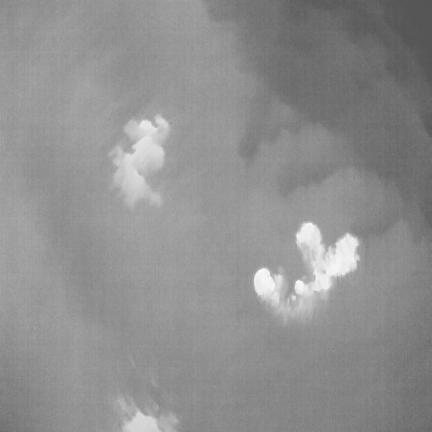flukeprints: (325, 234, 359, 278), (296, 222, 323, 253), (254, 268, 275, 300), (294, 280, 306, 294)
